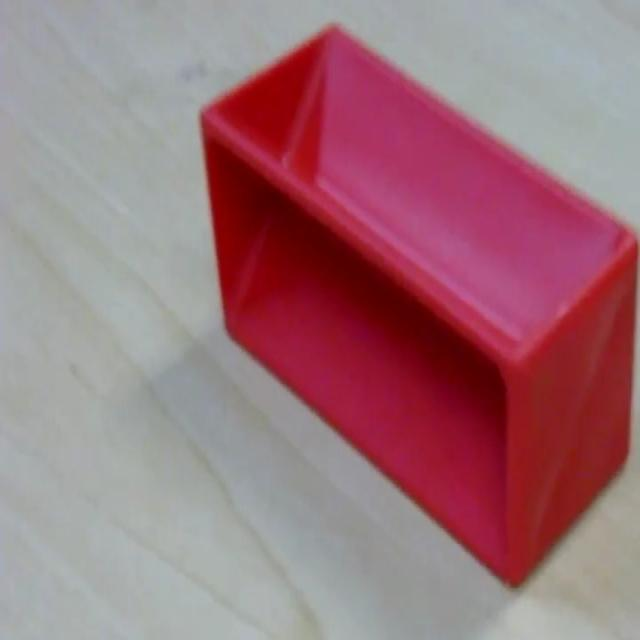red_block: (197, 20, 638, 588)
